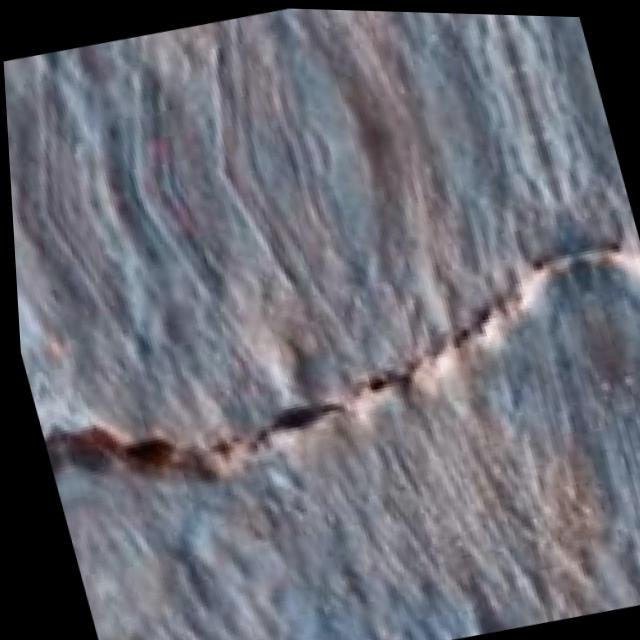Crack: (8, 173, 640, 554)
